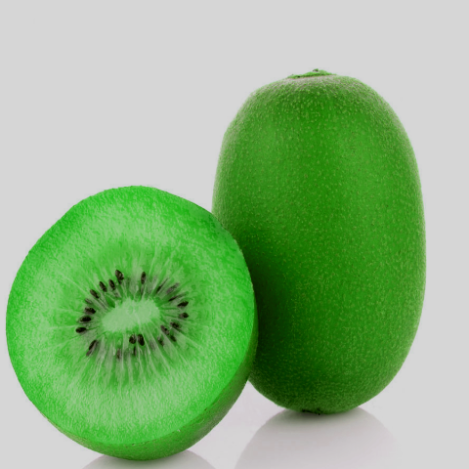kiwi: (176, 56, 467, 454)
